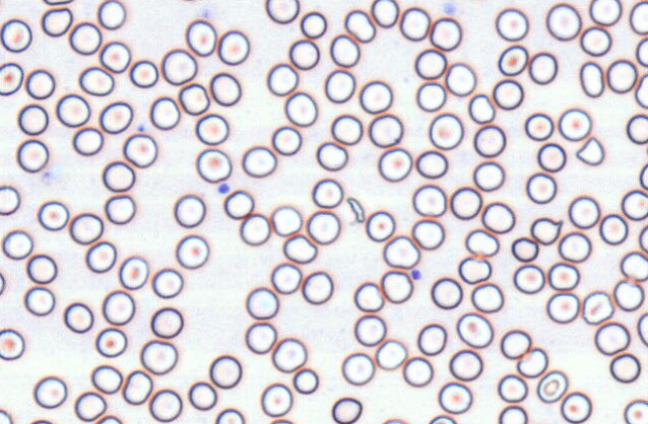PLT: (442, 1, 458, 17), (407, 268, 423, 282), (217, 182, 230, 194), (136, 122, 145, 133)
RBC: (139, 339, 178, 375), (545, 2, 581, 41), (456, 312, 493, 348), (161, 48, 197, 85), (382, 234, 420, 269), (428, 112, 463, 150), (271, 337, 307, 372), (122, 133, 157, 168), (377, 147, 412, 182), (196, 148, 231, 183), (594, 321, 630, 355), (101, 289, 135, 325), (55, 93, 90, 127), (175, 234, 209, 269), (368, 113, 403, 147), (148, 388, 182, 422), (306, 210, 340, 244), (557, 107, 591, 141), (437, 381, 472, 414), (448, 348, 483, 381), (284, 91, 317, 126), (217, 29, 249, 65), (241, 145, 277, 177), (185, 19, 216, 56), (380, 269, 413, 303), (33, 375, 67, 408), (68, 21, 101, 55), (245, 286, 279, 319), (16, 138, 49, 172), (209, 354, 242, 388), (99, 101, 133, 134), (581, 290, 614, 324), (449, 186, 482, 220), (359, 80, 392, 114), (412, 184, 446, 217), (495, 7, 528, 41), (260, 382, 292, 417), (429, 16, 461, 51), (122, 369, 153, 405), (341, 352, 374, 385), (473, 124, 506, 157), (301, 270, 333, 304), (101, 160, 135, 192), (0, 18, 32, 52), (266, 62, 298, 96), (69, 212, 103, 244), (536, 369, 568, 403), (209, 72, 241, 106), (481, 201, 515, 233), (568, 195, 600, 229), (195, 113, 229, 145), (399, 6, 430, 41), (118, 255, 149, 290), (78, 66, 114, 96), (178, 82, 210, 115), (353, 314, 386, 346), (150, 306, 183, 338), (99, 40, 131, 73), (173, 194, 205, 227), (411, 218, 444, 250), (330, 113, 363, 145), (329, 33, 360, 67), (149, 96, 180, 130), (445, 62, 476, 96), (324, 69, 355, 103), (606, 59, 637, 93), (282, 233, 317, 263), (270, 262, 302, 294), (560, 391, 592, 423), (430, 277, 462, 309), (245, 321, 276, 354), (40, 6, 73, 37), (344, 9, 375, 42), (546, 292, 579, 323), (85, 240, 116, 273), (613, 278, 644, 311), (239, 212, 270, 245), (470, 282, 503, 313), (525, 171, 556, 204), (558, 231, 591, 262), (472, 160, 505, 191), (464, 228, 499, 257), (375, 339, 407, 370), (516, 347, 548, 378), (402, 355, 433, 387), (609, 352, 641, 383), (25, 253, 57, 284), (151, 267, 183, 298), (17, 103, 48, 135), (513, 263, 545, 294), (270, 205, 302, 236), (414, 48, 446, 79), (37, 200, 69, 231), (492, 78, 523, 110), (74, 391, 107, 421), (415, 149, 448, 179), (353, 281, 384, 312), (2, 229, 33, 260), (288, 39, 319, 70), (497, 45, 528, 76), (580, 25, 611, 56), (90, 364, 122, 394), (23, 286, 55, 316), (63, 301, 93, 333), (95, 327, 127, 357), (417, 323, 447, 355), (499, 329, 531, 359), (365, 210, 395, 242), (311, 178, 343, 208), (316, 141, 348, 171), (547, 261, 580, 290), (528, 51, 557, 84), (457, 256, 491, 284), (25, 68, 55, 99), (223, 189, 254, 219), (416, 81, 446, 112), (271, 125, 302, 155), (104, 194, 135, 224), (599, 213, 628, 245), (579, 61, 604, 97), (497, 373, 528, 402), (72, 126, 103, 155), (187, 381, 217, 410), (537, 142, 566, 172), (524, 112, 554, 141), (129, 59, 158, 88), (331, 396, 362, 423), (620, 250, 647, 281), (468, 93, 495, 124), (589, 0, 621, 26), (97, 0, 125, 29), (621, 189, 647, 220), (0, 328, 25, 360), (370, 0, 399, 27), (265, 0, 299, 23), (0, 62, 23, 95), (299, 11, 327, 38), (292, 367, 318, 394), (511, 236, 538, 262), (626, 113, 647, 144), (629, 0, 647, 35), (0, 185, 20, 215), (623, 399, 647, 423), (498, 405, 527, 423), (215, 407, 244, 423), (634, 73, 647, 108), (635, 37, 647, 67), (637, 312, 647, 346), (638, 224, 647, 253), (95, 414, 123, 423), (428, 414, 456, 423), (639, 162, 647, 190), (0, 408, 12, 423), (381, 417, 408, 423), (42, 0, 74, 5), (268, 418, 294, 423), (0, 271, 5, 295), (29, 418, 53, 423), (172, 0, 204, 2)
Schistocyte: (530, 217, 564, 248), (576, 137, 605, 166), (346, 196, 366, 222)
